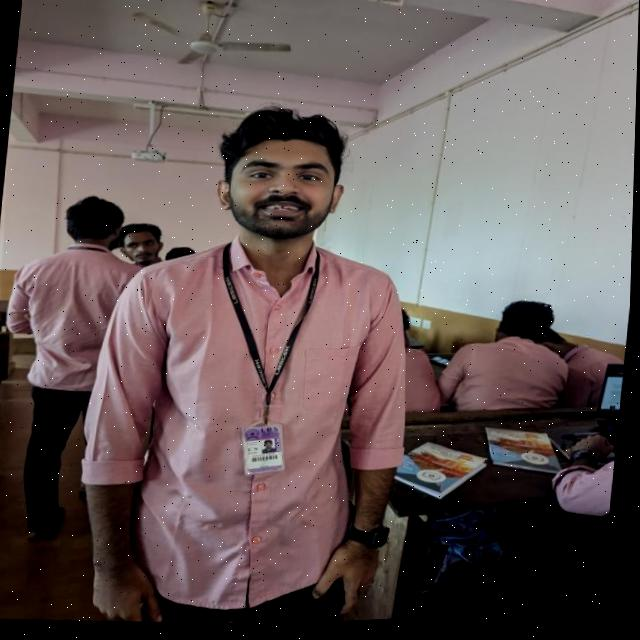id_card: (201, 233, 331, 491)
